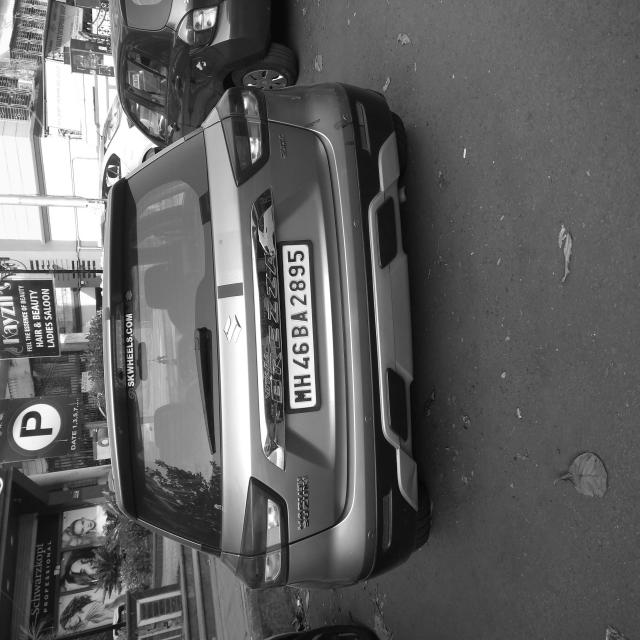car: (26, 78, 425, 597)
license-plate: (176, 375, 302, 429)
